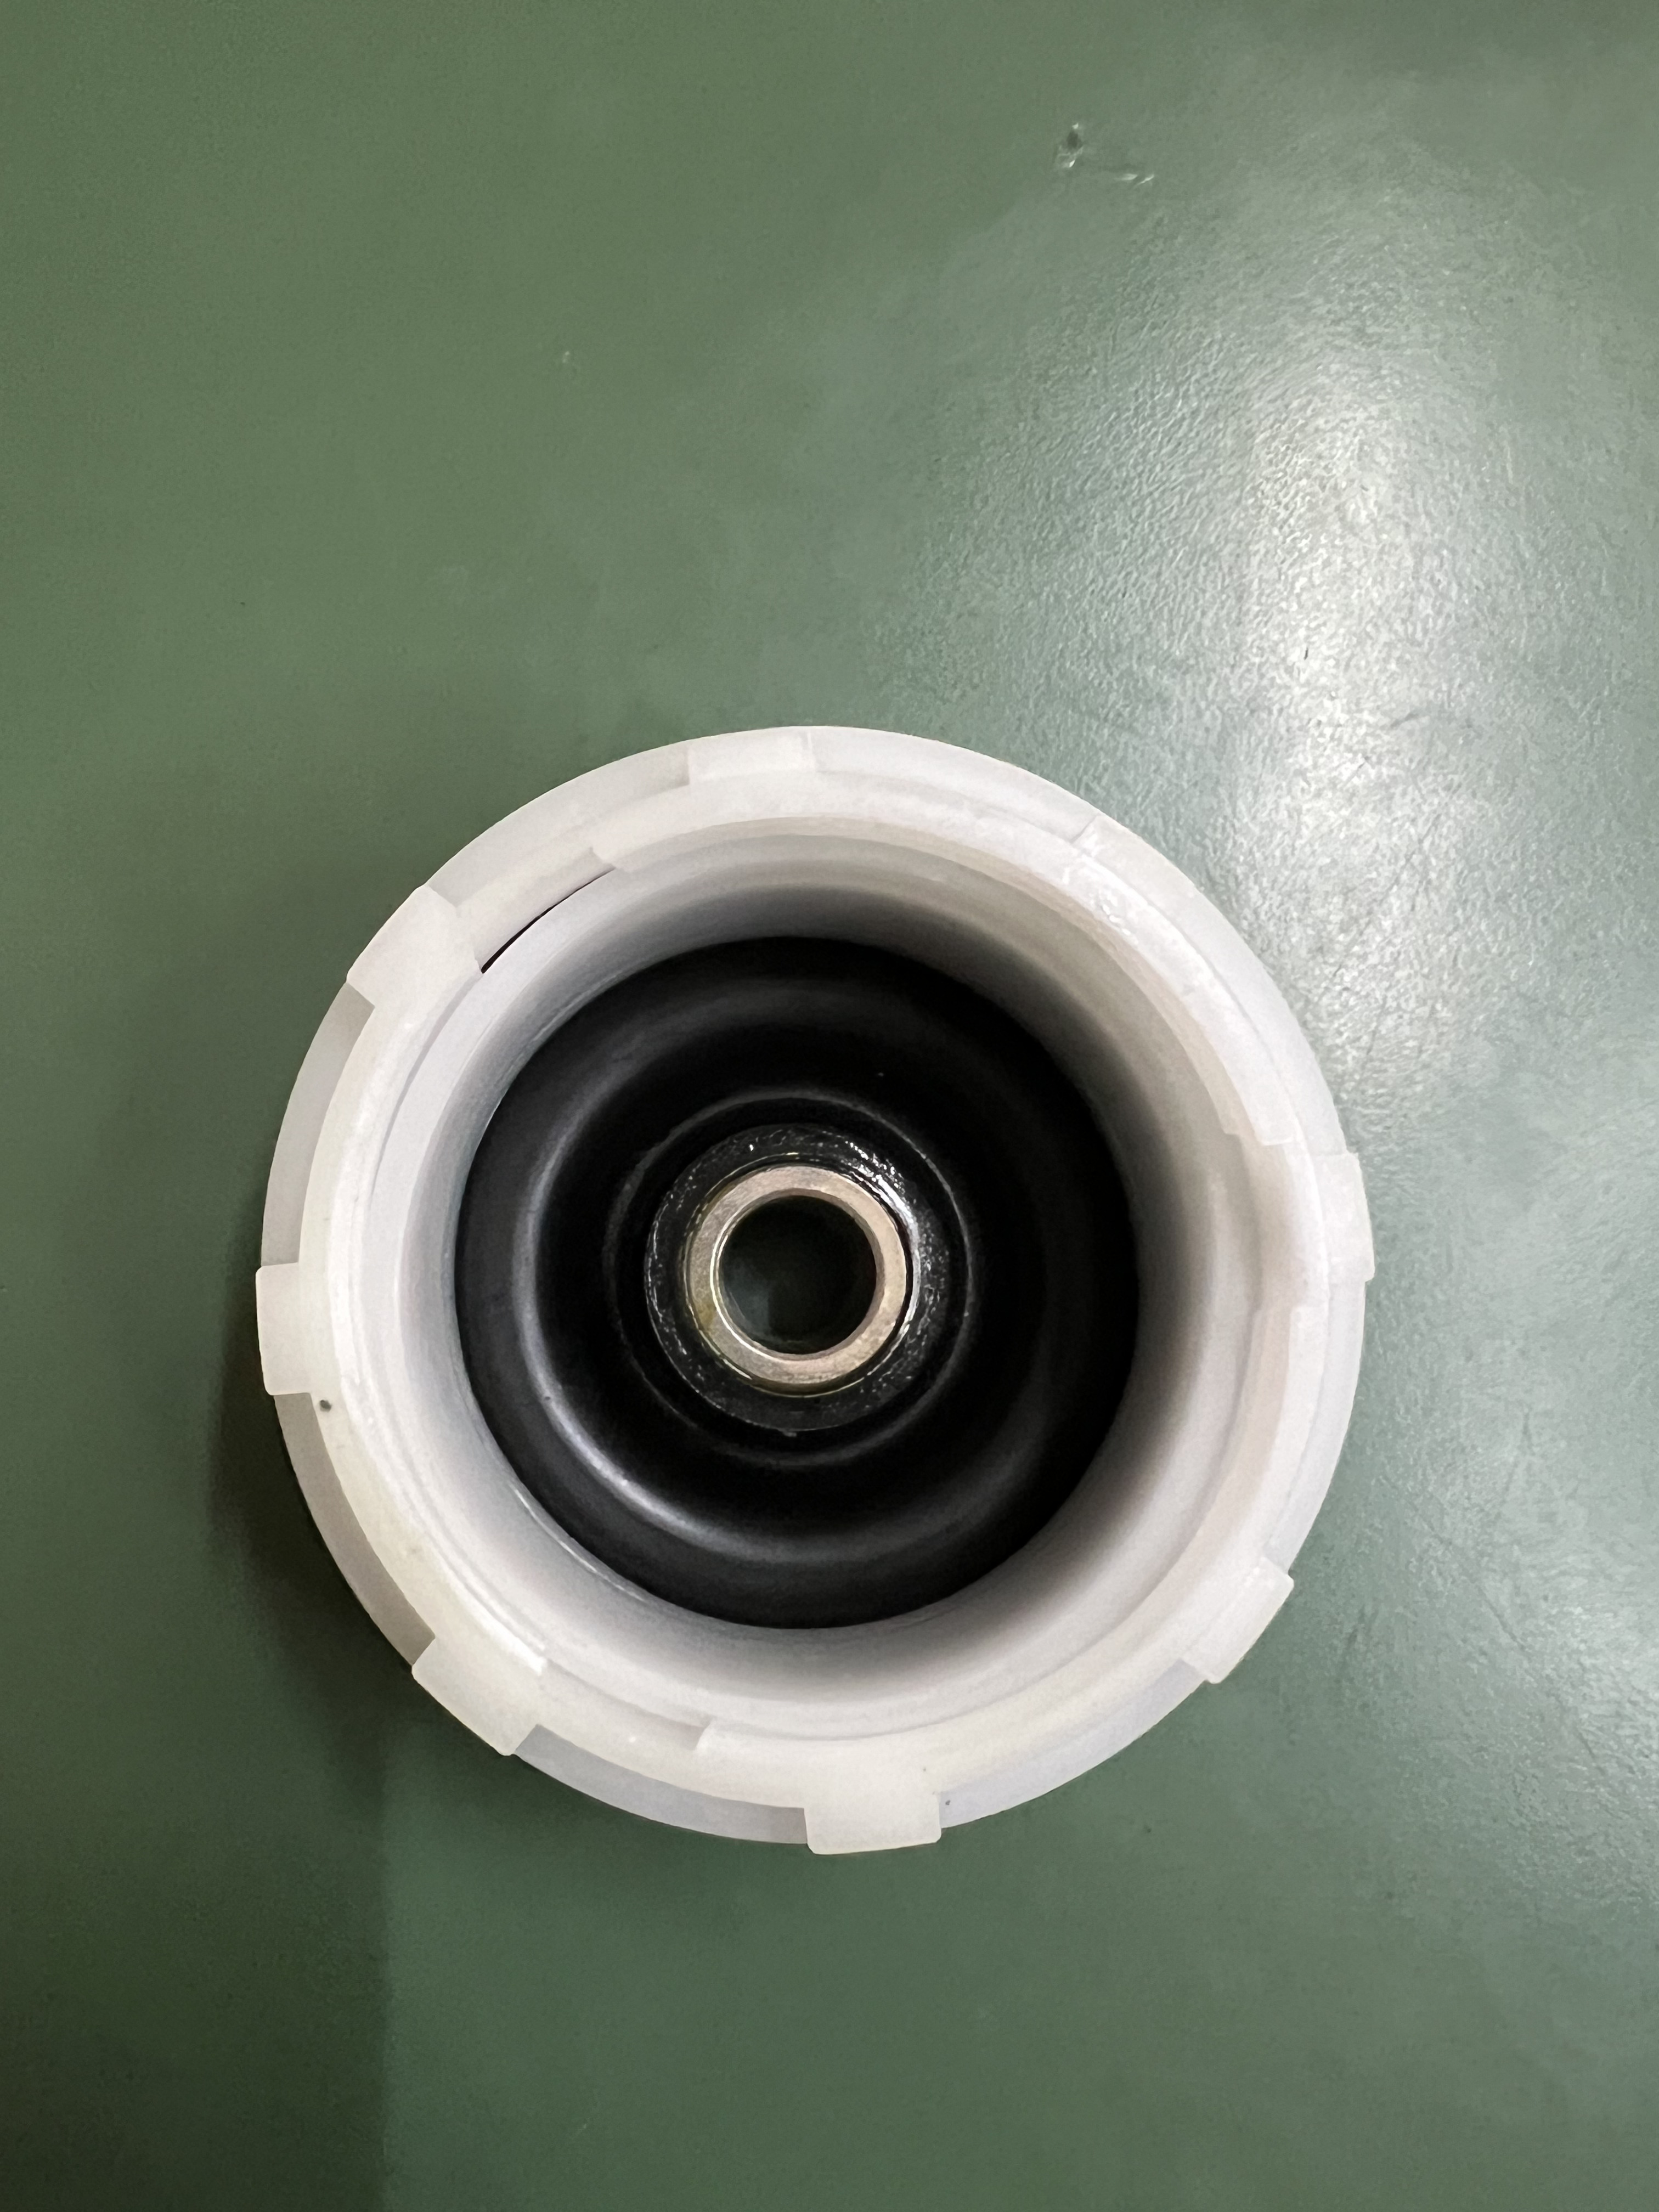lever: (251, 723, 1401, 1871)
